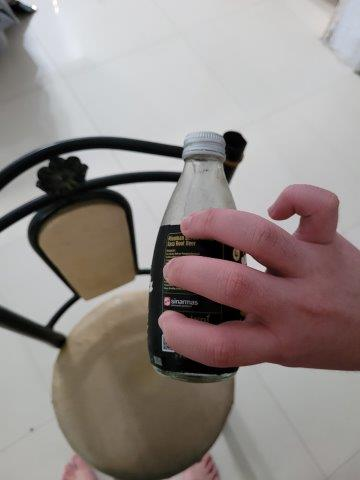botolkaca: (146, 131, 247, 381)
